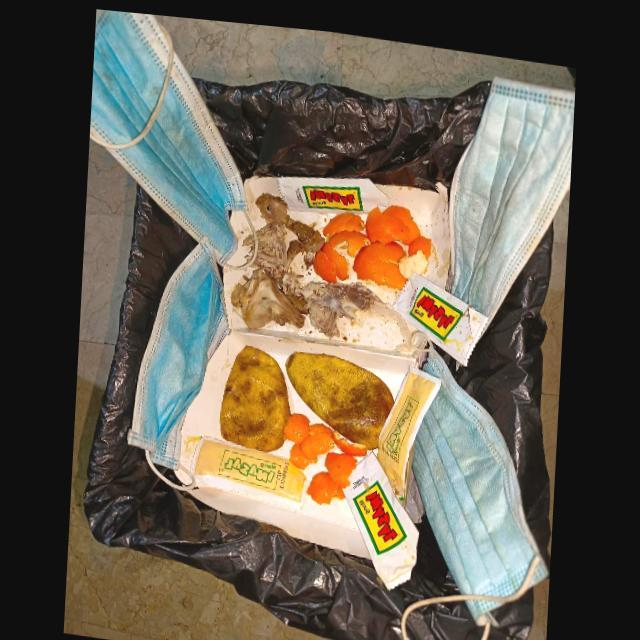left_over_food: (295, 275, 412, 344), (257, 188, 324, 261), (232, 265, 308, 324), (250, 217, 304, 288)
plastic_sachet: (342, 445, 420, 583), (378, 358, 442, 502), (393, 264, 489, 357), (191, 432, 307, 500)
